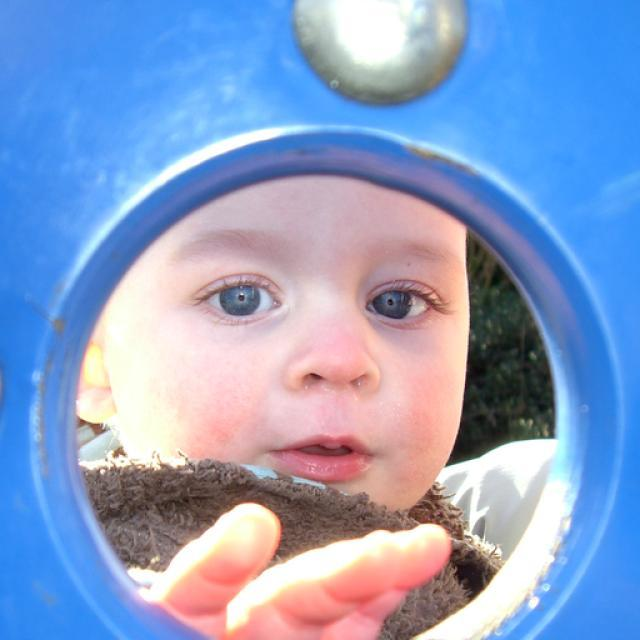surprise: (101, 172, 474, 514)
